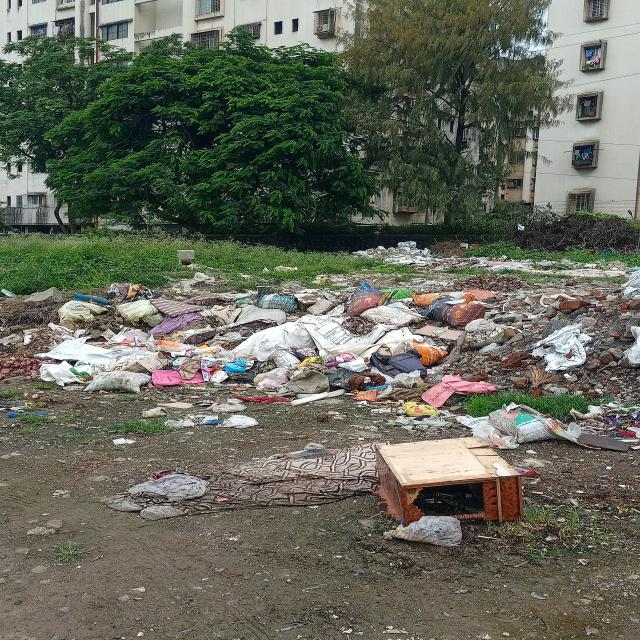garbage: (6, 280, 640, 447), (360, 244, 640, 274)
